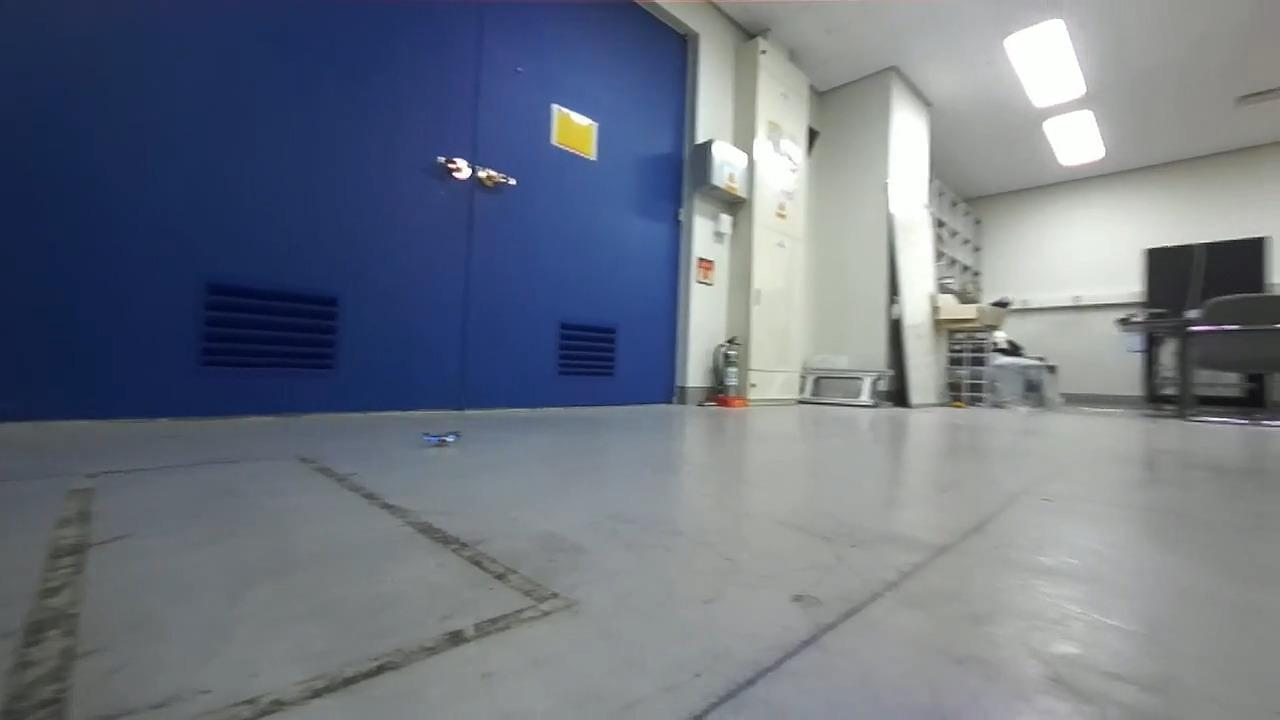crazyflie: (417, 425, 467, 455)
